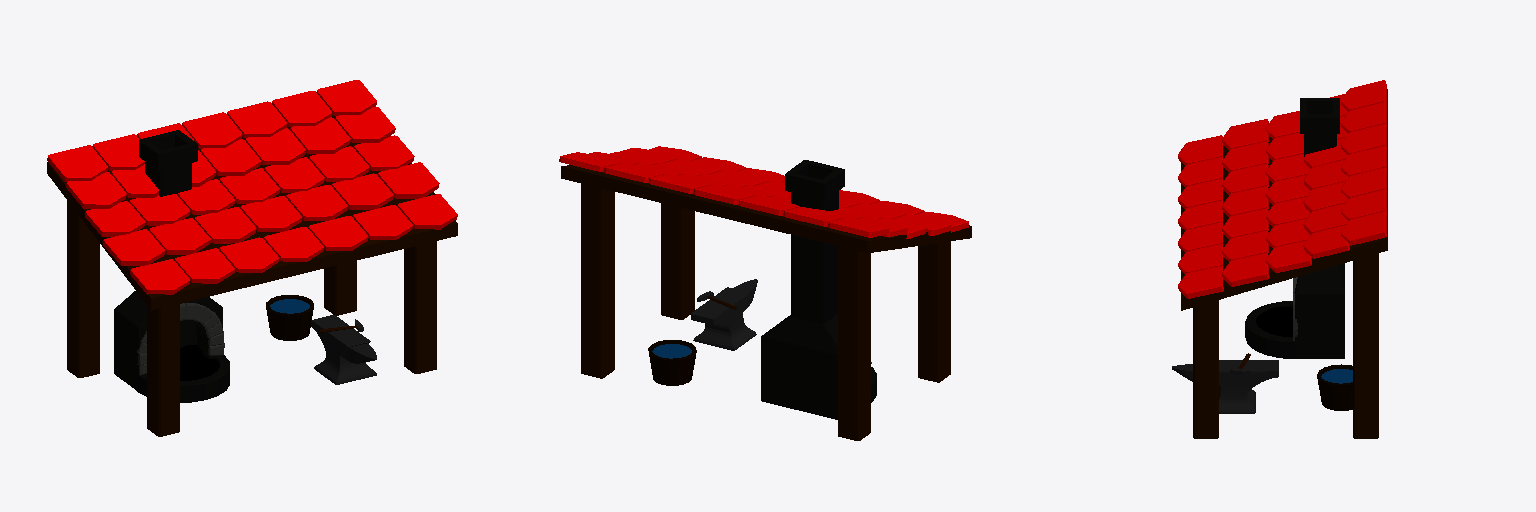
Rendered from Blacksmith_RedTeam.obj.
The picture shows the model from 3 angles: view 1: azimuth 30°, elevation 25°; view 2: azimuth 150°, elevation 25°; view 3: azimuth 270°, elevation 25°; orthographic projection.
Visible parts, largest first — view 1: Blacksmith_RedTeam_Cube.014; view 2: Blacksmith_RedTeam_Cube.014; view 3: Blacksmith_RedTeam_Cube.014.
Part boxes in pixels (bbox=[...]): Blacksmith_RedTeam_Cube.014: bbox=[47, 80, 457, 436]; Blacksmith_RedTeam_Cube.014: bbox=[559, 146, 971, 440]; Blacksmith_RedTeam_Cube.014: bbox=[1172, 80, 1387, 438].
Bounding box in the file's own units: 22.65 × 15.71 × 13.37.